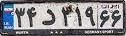character: (40, 5, 59, 28), (26, 5, 40, 29), (59, 4, 74, 26), (83, 4, 96, 29), (12, 6, 27, 27), (109, 9, 124, 29), (98, 9, 111, 28), (74, 4, 83, 29)
